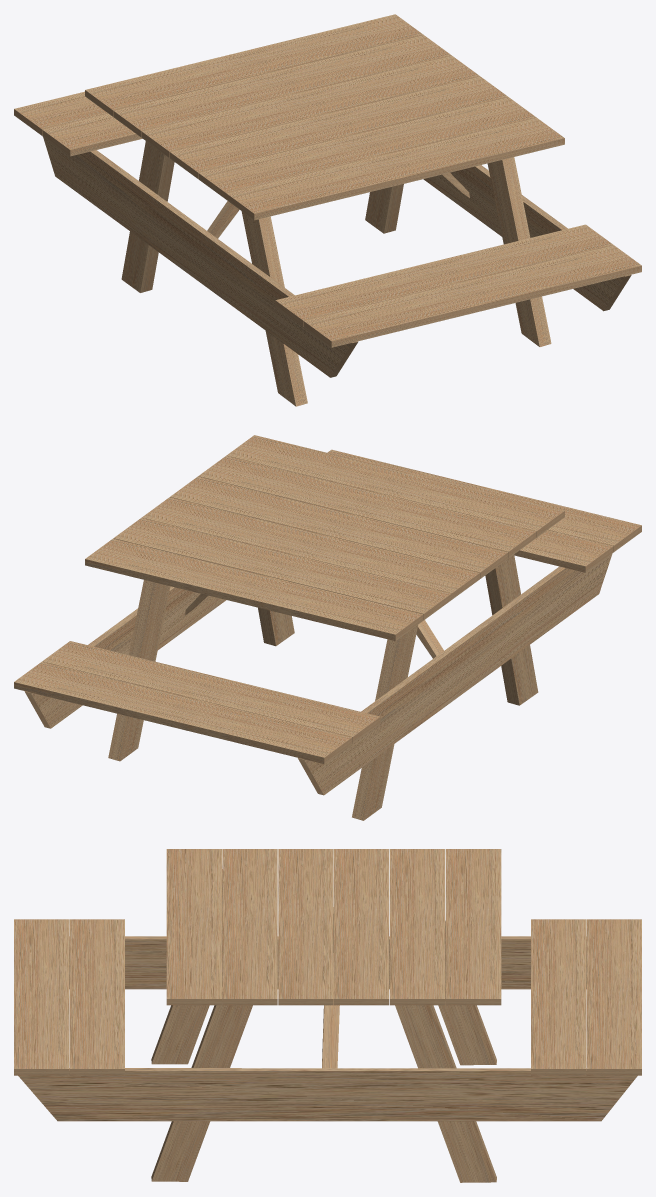
File: bench.fbx
3 renders of one model, top to bottom at view 1: azimuth 30°, elevation 25°; view 2: azimuth 150°, elevation 25°; view 3: azimuth 270°, elevation 25°, orthographic.
Visible parts, largest first — view 1: Cube_014, Cube_006, Cube_005, Cube_004, Cube_001, Cube_002, Cube_007, Cube_003, Cube, Cube_015, Cube_011, Cube_013 (+4 smaller); view 2: Cube_014, Cube_004, Cube_009, Cube_003, Cube, Cube_001, Cube_008, Cube_002, Cube_005, Cube_015, Cube_010, Cube_012 (+4 smaller); view 3: Cube_015, Cube, Cube_001, Cube_008, Cube_009, Cube_006, Cube_007, Cube_002, Cube_003, Cube_004, Cube_005, Cube_010 (+5 smaller).
Boxes of the visible parts, bbox=[...] form: Cube_014: bbox=[43, 137, 357, 377]; Cube_006: bbox=[303, 245, 641, 347]; Cube_005: bbox=[226, 117, 564, 220]; Cube_004: bbox=[85, 14, 423, 116]; Cube_001: bbox=[170, 76, 507, 178]; Cube_002: bbox=[141, 55, 479, 158]; Cube_007: bbox=[275, 224, 613, 326]; Cube_003: bbox=[113, 35, 451, 137]; Cube: bbox=[198, 97, 536, 199]; Cube_015: bbox=[423, 165, 631, 311]; Cube_011: bbox=[487, 157, 551, 346]; Cube_013: bbox=[241, 211, 307, 406]; Cube_014: bbox=[298, 553, 612, 795]; Cube_004: bbox=[85, 538, 423, 640]; Cube_009: bbox=[14, 661, 352, 764]; Cube_003: bbox=[113, 517, 451, 619]; Cube: bbox=[198, 455, 536, 558]; Cube_001: bbox=[170, 476, 508, 578]; Cube_008: bbox=[42, 641, 380, 743]; Cube_002: bbox=[142, 497, 479, 599]; Cube_005: bbox=[226, 435, 564, 537]; Cube_015: bbox=[24, 586, 226, 728]; Cube_010: bbox=[108, 580, 170, 761]; Cube_012: bbox=[352, 625, 417, 820]; Cube_015: bbox=[18, 1068, 637, 1121]; Cube: bbox=[222, 849, 277, 1005]; Cube_001: bbox=[278, 849, 333, 1005]; Cube_008: bbox=[531, 919, 586, 1075]; Cube_009: bbox=[586, 919, 641, 1075]; Cube_006: bbox=[14, 919, 69, 1075]; Cube_007: bbox=[69, 919, 124, 1075]; Cube_002: bbox=[334, 849, 389, 1005]; Cube_003: bbox=[390, 849, 445, 1005]; Cube_004: bbox=[446, 849, 501, 1005]; Cube_005: bbox=[166, 849, 221, 1005]; Cube_010: bbox=[395, 1005, 496, 1182].
Size of the model in its own units: 2.64 by 1.6 by 4.67.
